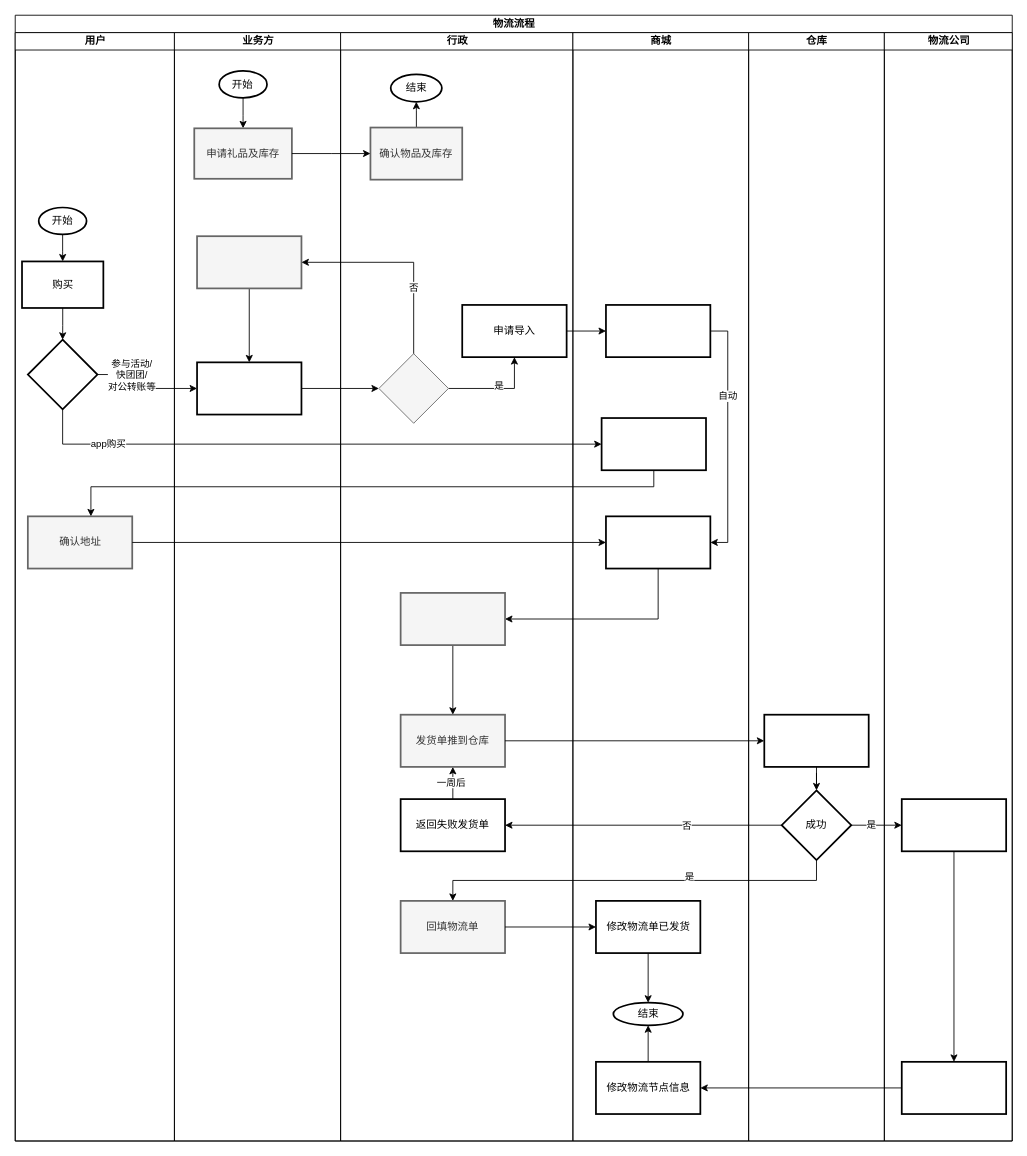
Some shapes in this 1027 by 1156 pixel diagram are drawn without their labels. Here are the shapes that lost their labels. From the top down, the centre of each, then its label:
pixel 249 262: 通知用户换礼品 （周期较长）
pixel 658 331: 执行导入生成物流单
pixel 62 374: 购买方式
pixel 249 388: 申请发礼品
pixel 413 388: 有库存
pixel 653 444: 生成随单物流单 （待确认）
pixel 658 542: 修改物流单发货中
pixel 452 619: 导出待发物流单 （当天）
pixel 816 740: 仓库发货
pixel 953 825: 物流
pixel 953 1087: 物流节点变更
